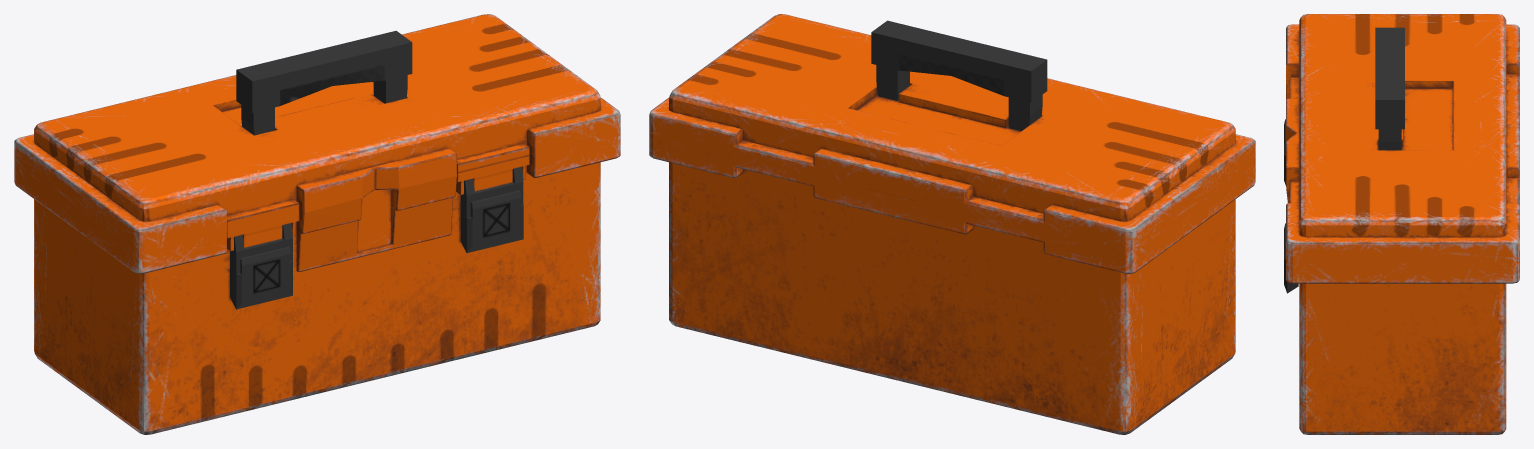
Rendered from toolbox.glb.
3 renders of one model, left to right at view 1: azimuth 30°, elevation 25°; view 2: azimuth 150°, elevation 25°; view 3: azimuth 270°, elevation 25°, orthographic. The views are drawn at different scales.
Bounding box in the file's own units: 1.05 × 0.6005 × 0.4761.
2 materials, 2 textured.
